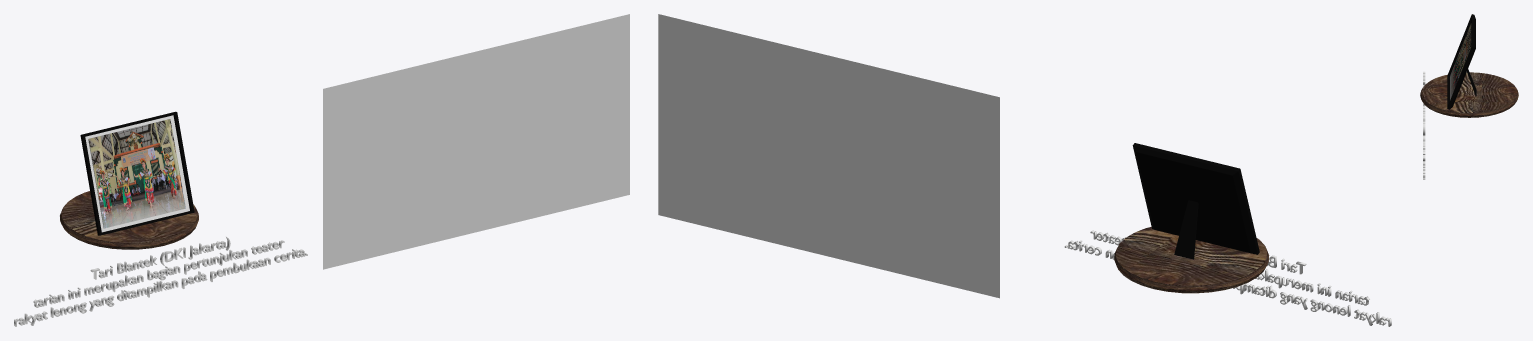
File: 13. Tari Blantek (DKI Jakarta).fbx
The picture shows the model from 3 angles, left to right: view 1: azimuth 30°, elevation 25°; view 2: azimuth 150°, elevation 25°; view 3: azimuth 270°, elevation 25°; orthographic projection. The views are drawn at different scales.
Parts seen in each view (by area): view 1: Plane, Cube.005, Text; view 2: Plane, Cube.005, Text; view 3: Cube.005, Text.
Part boxes in pixels (left/top/right/bottom): Plane: left=323, top=14, right=629, bottom=269; Cube.005: left=60, top=111, right=198, bottom=249; Text: left=14, top=236, right=307, bottom=326; Plane: left=658, top=14, right=999, bottom=298; Cube.005: left=1114, top=143, right=1269, bottom=293; Text: left=1064, top=230, right=1391, bottom=326; Cube.005: left=1420, top=14, right=1518, bottom=117; Text: left=1423, top=71, right=1425, bottom=179.
Size of the model in its own units: 6634 by 1806 by 1260.
Materials: 6 (3 with a texture image).
